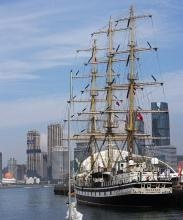fanchuan: (71, 7, 183, 212)
